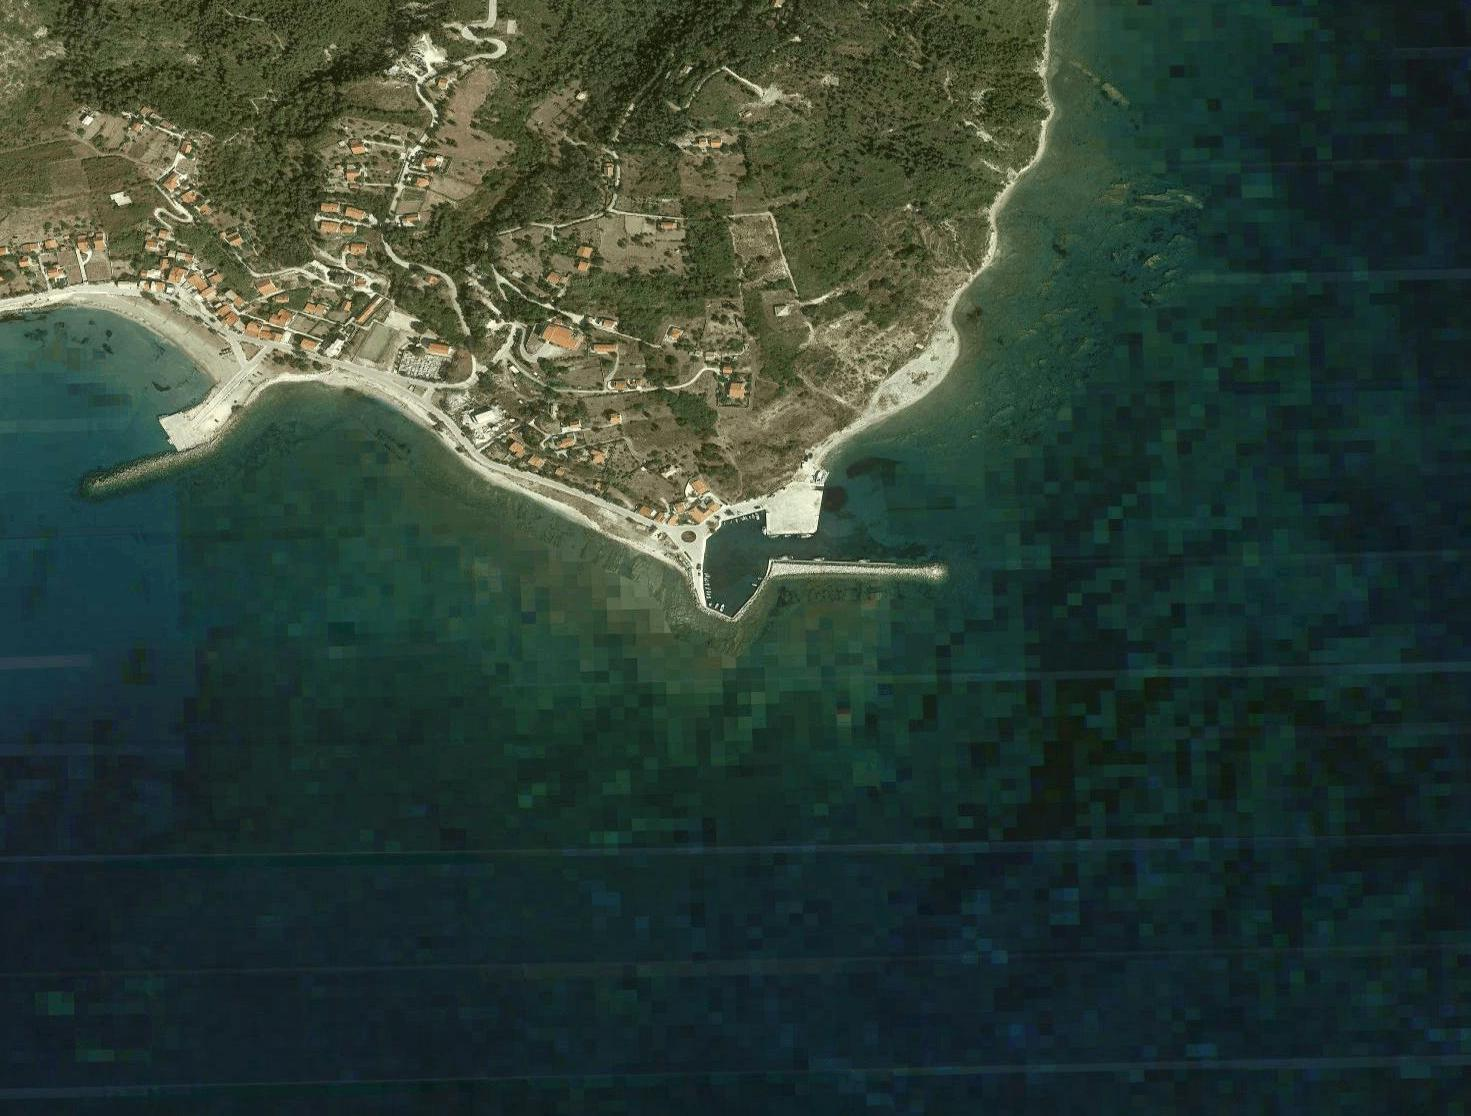harbor: (662, 479, 960, 638)
